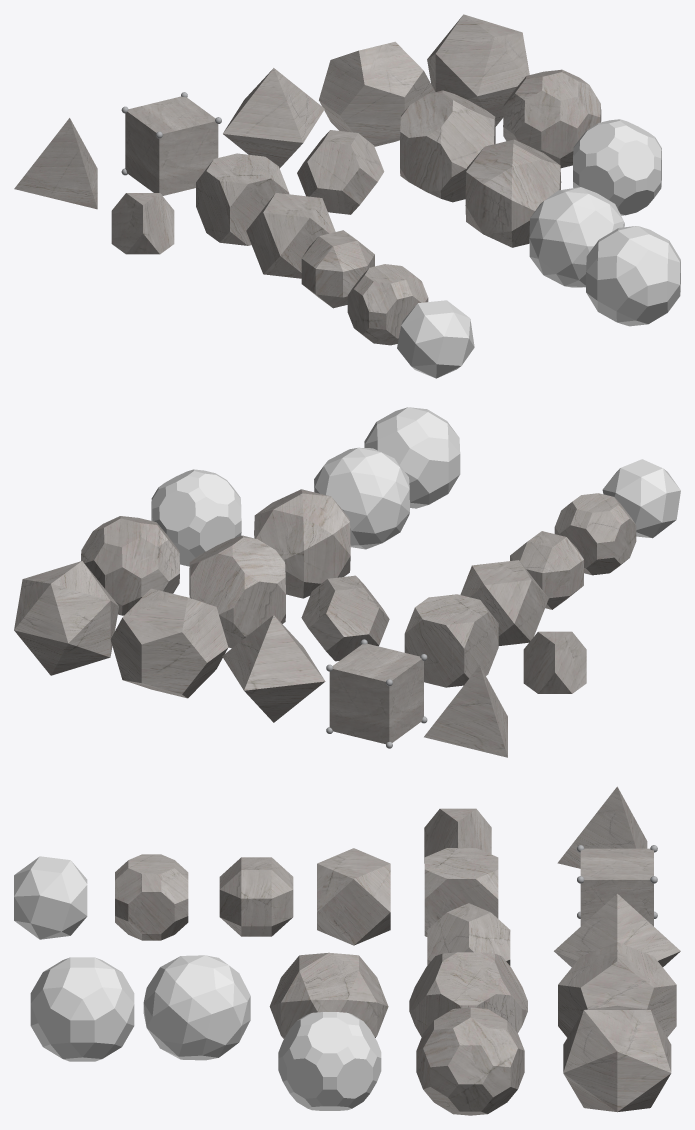
The model's file is cubo v2 unido.glb.
The picture shows the model from 3 angles, top to bottom: view 1: azimuth 30°, elevation 25°; view 2: azimuth 150°, elevation 25°; view 3: azimuth 270°, elevation 25°; orthographic projection. The views are drawn at different scales.
Visible parts, largest first — view 1: Dodecaedro, Solid.018, Solid.029, Solid.019, Hexaedro, Icosaedro, Solid.023, Solid.027, Solid.028, Solid.012, Octaedro, Solid.016 (+6 smaller); view 2: Dodecaedro, Icosaedro, Hexaedro, Solid.018, Solid.019, Solid.012, Solid.028, Solid.023, Solid.027, Solid.029, Octaedro, Solid.016 (+6 smaller); view 3: Icosaedro, Solid.023, Solid.028, Solid.029, Solid.027, Dodecaedro, Solid.019, Solid.018, Solid.013, Solid.021, Solid.026, Solid.020 (+6 smaller).
Boxes of the visible parts, x1,y1,x2,y2 form: Dodecaedro: [319, 41, 435, 146]; Solid.018: [400, 90, 495, 202]; Solid.029: [586, 226, 680, 326]; Solid.019: [465, 139, 561, 247]; Hexaedro: [125, 96, 218, 195]; Icosaedro: [427, 14, 529, 126]; Solid.023: [503, 69, 601, 168]; Solid.027: [573, 119, 661, 215]; Solid.028: [529, 187, 624, 287]; Solid.012: [196, 153, 289, 245]; Octaedro: [223, 68, 324, 168]; Solid.016: [297, 130, 384, 214]; Dodecaedro: [110, 588, 228, 698]; Icosaedro: [14, 561, 118, 675]; Hexaedro: [329, 643, 423, 744]; Solid.018: [189, 535, 285, 648]; Solid.019: [254, 489, 350, 598]; Solid.012: [404, 594, 498, 687]; Solid.028: [314, 447, 409, 549]; Solid.023: [81, 516, 179, 615]; Solid.027: [151, 469, 241, 566]; Solid.029: [364, 407, 460, 508]; Octaedro: [222, 615, 325, 722]; Solid.016: [301, 575, 389, 661]; Icosaedro: [563, 1005, 671, 1112]; Solid.023: [416, 1007, 524, 1115]; Solid.028: [143, 955, 250, 1060]; Solid.029: [30, 957, 134, 1061]; Solid.027: [278, 1012, 381, 1110]; Dodecaedro: [558, 942, 676, 1037]; Solid.019: [269, 952, 388, 1038]; Solid.018: [409, 952, 527, 1036]; Solid.013: [317, 848, 390, 945]; Solid.021: [115, 854, 188, 940]; Solid.026: [14, 856, 87, 939]; Solid.020: [219, 857, 293, 936].
Size of the model in its own units: 9.76 by 2 by 10.48.
4 materials, 4 textured.
